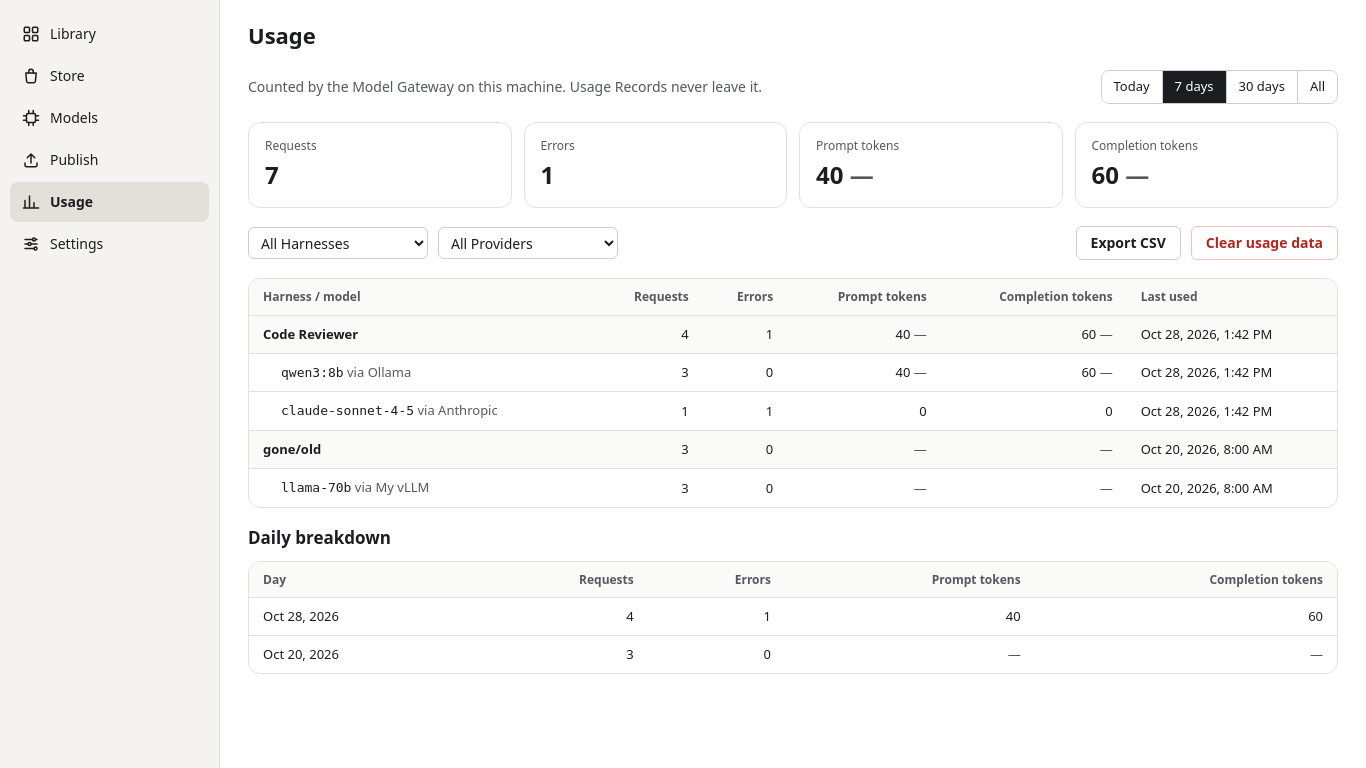
Usage page › Export CSV exports the period and filters on view, and names the file saved
Select "Ollama" in the dropdown named "Provider". click: (528, 243)
box: [438,227,618,259]
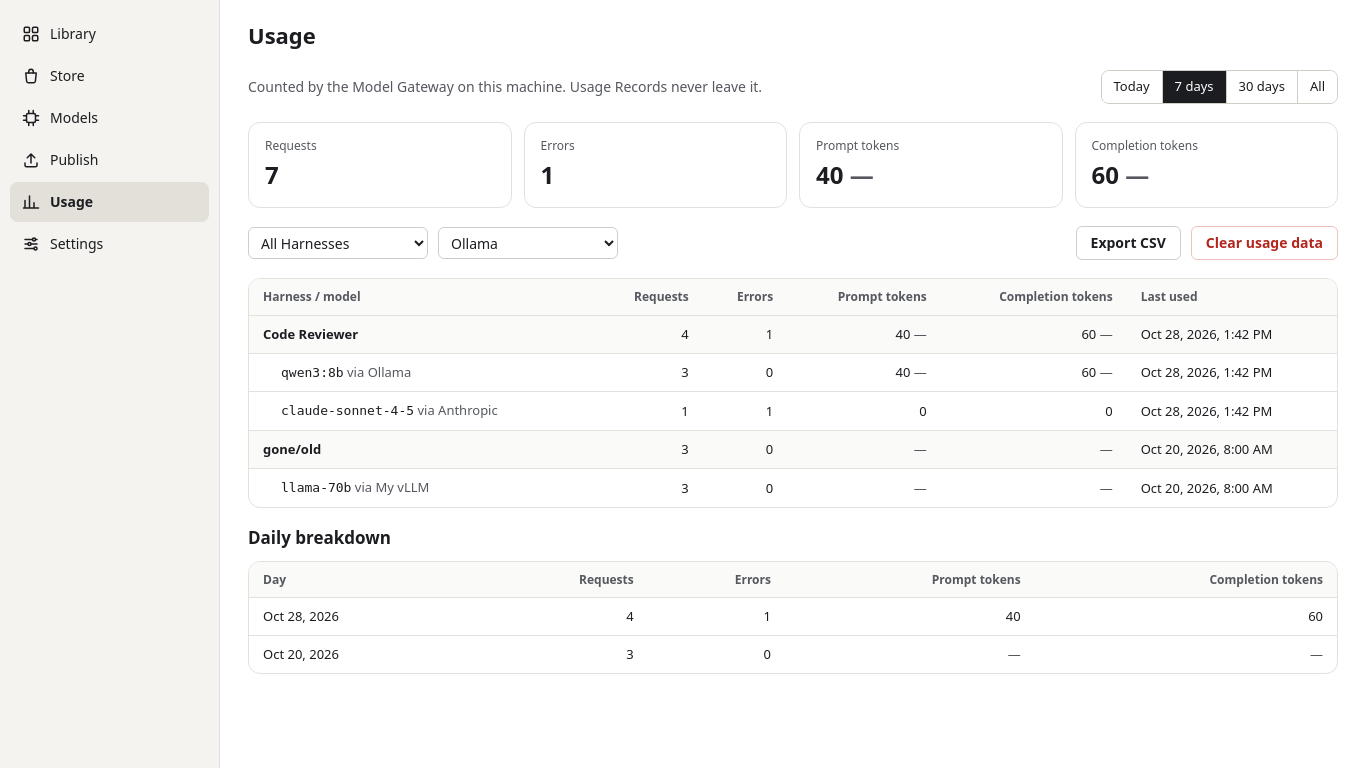
Click the button "Export CSV". click: (1128, 243)
box: [1076,226,1181,260]
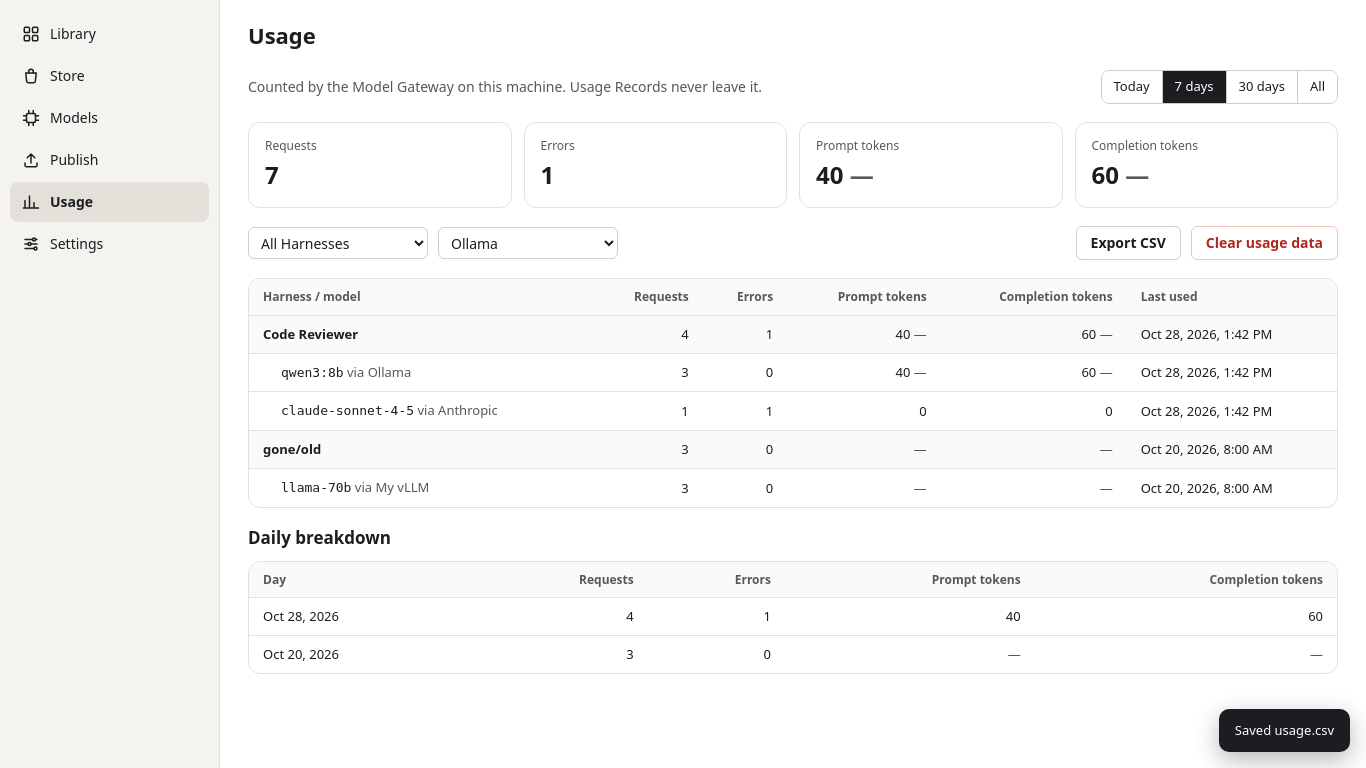
Expected: the text "Saved usage.csv" is shown, [1219,709,1350,752]
